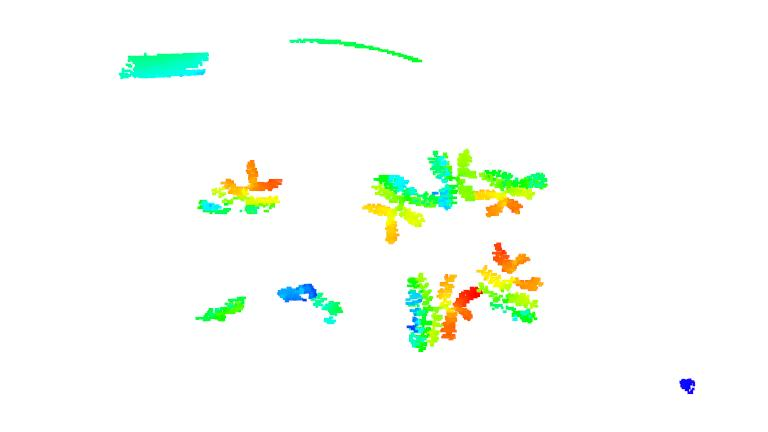chickpea: (407, 265, 477, 356), (193, 156, 285, 221), (477, 244, 543, 327), (361, 171, 430, 241), (473, 166, 554, 216), (423, 148, 482, 207), (274, 281, 346, 327), (194, 293, 247, 324)
